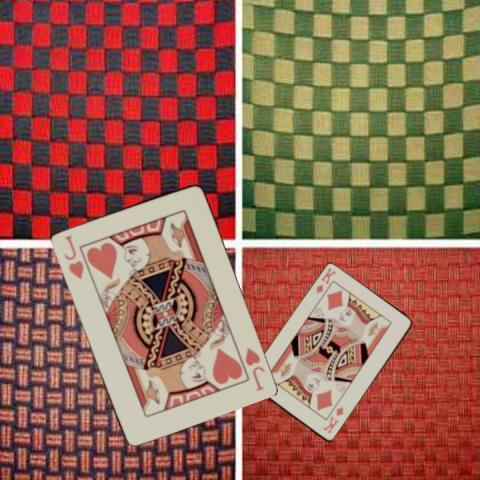Jh: (61, 231, 85, 280), (241, 345, 266, 392)
Kd: (320, 404, 345, 435), (313, 266, 337, 296)
